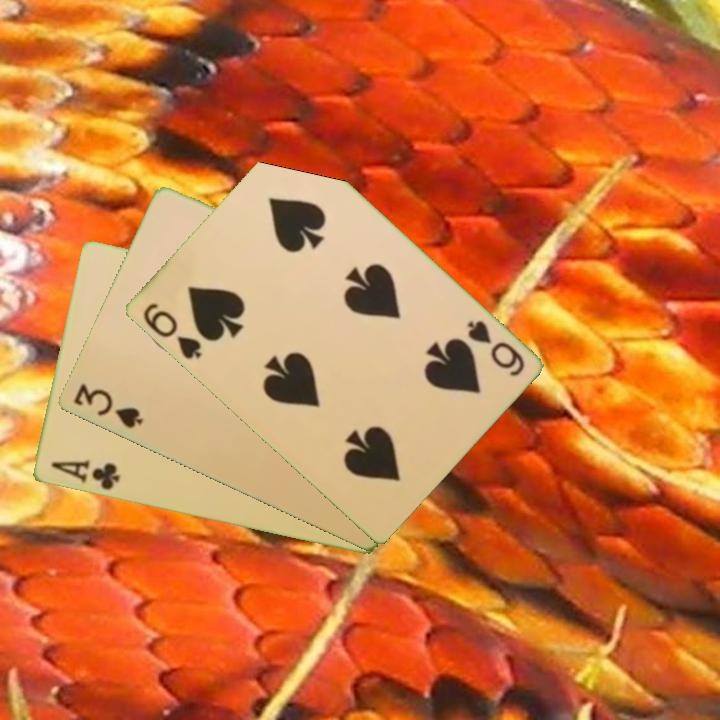3s: (69, 380, 146, 432)
6s: (139, 299, 204, 362), (462, 316, 527, 379)
Ac: (47, 456, 122, 494)
